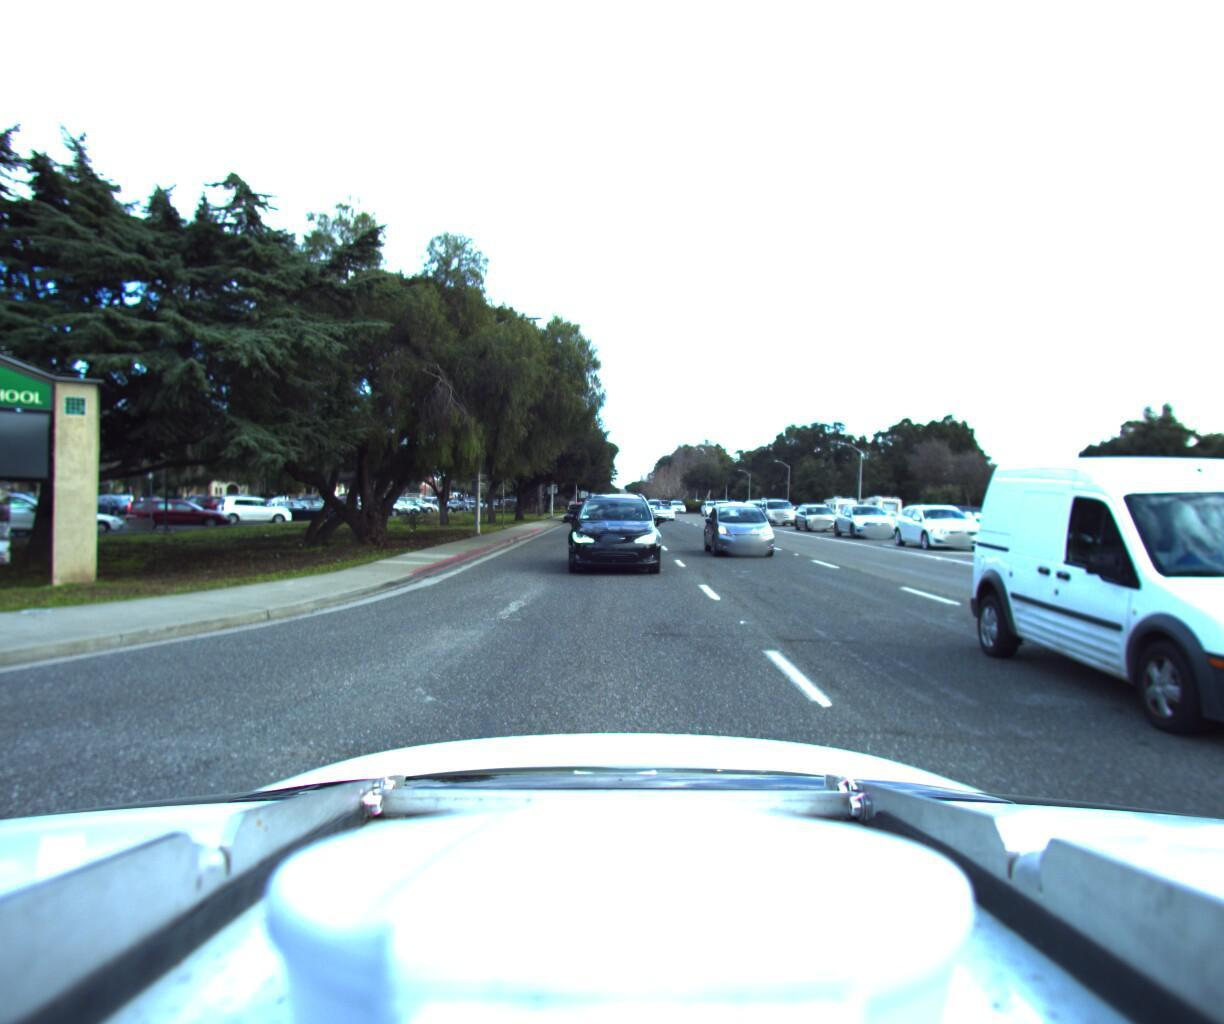car: (1008, 400, 1224, 892), (561, 485, 658, 575), (889, 497, 999, 547), (703, 494, 778, 556), (829, 495, 902, 532), (933, 497, 989, 530), (792, 492, 846, 525), (755, 494, 795, 524), (1219, 501, 1224, 649), (565, 495, 593, 516), (651, 495, 676, 515)
other_vehicle: (851, 486, 901, 522)
